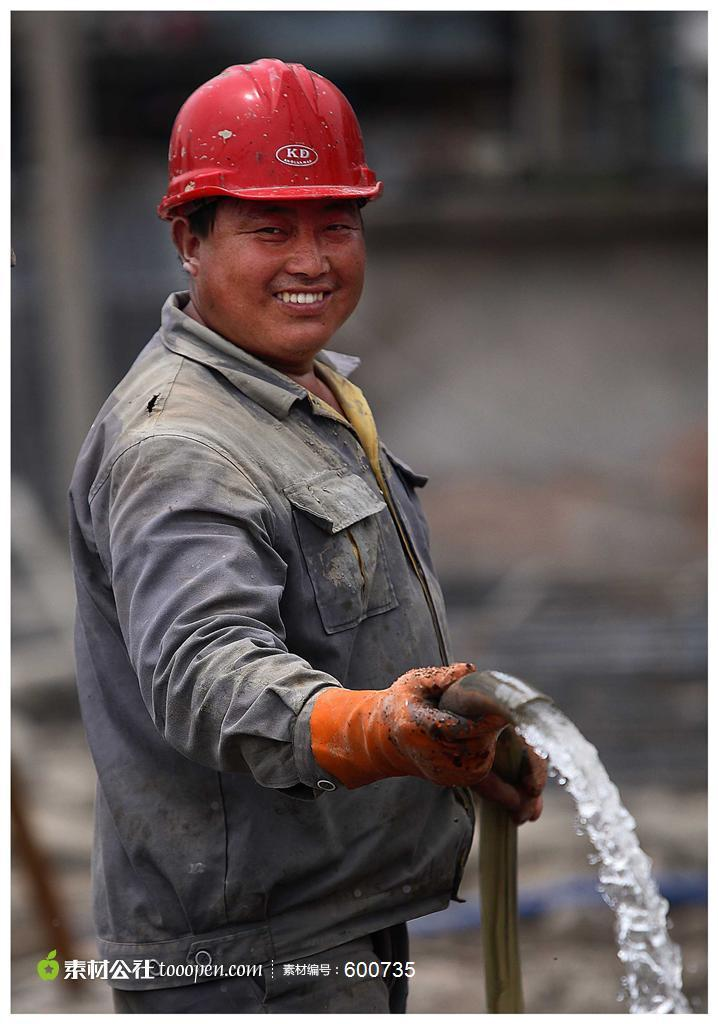helmet: (162, 60, 381, 217)
